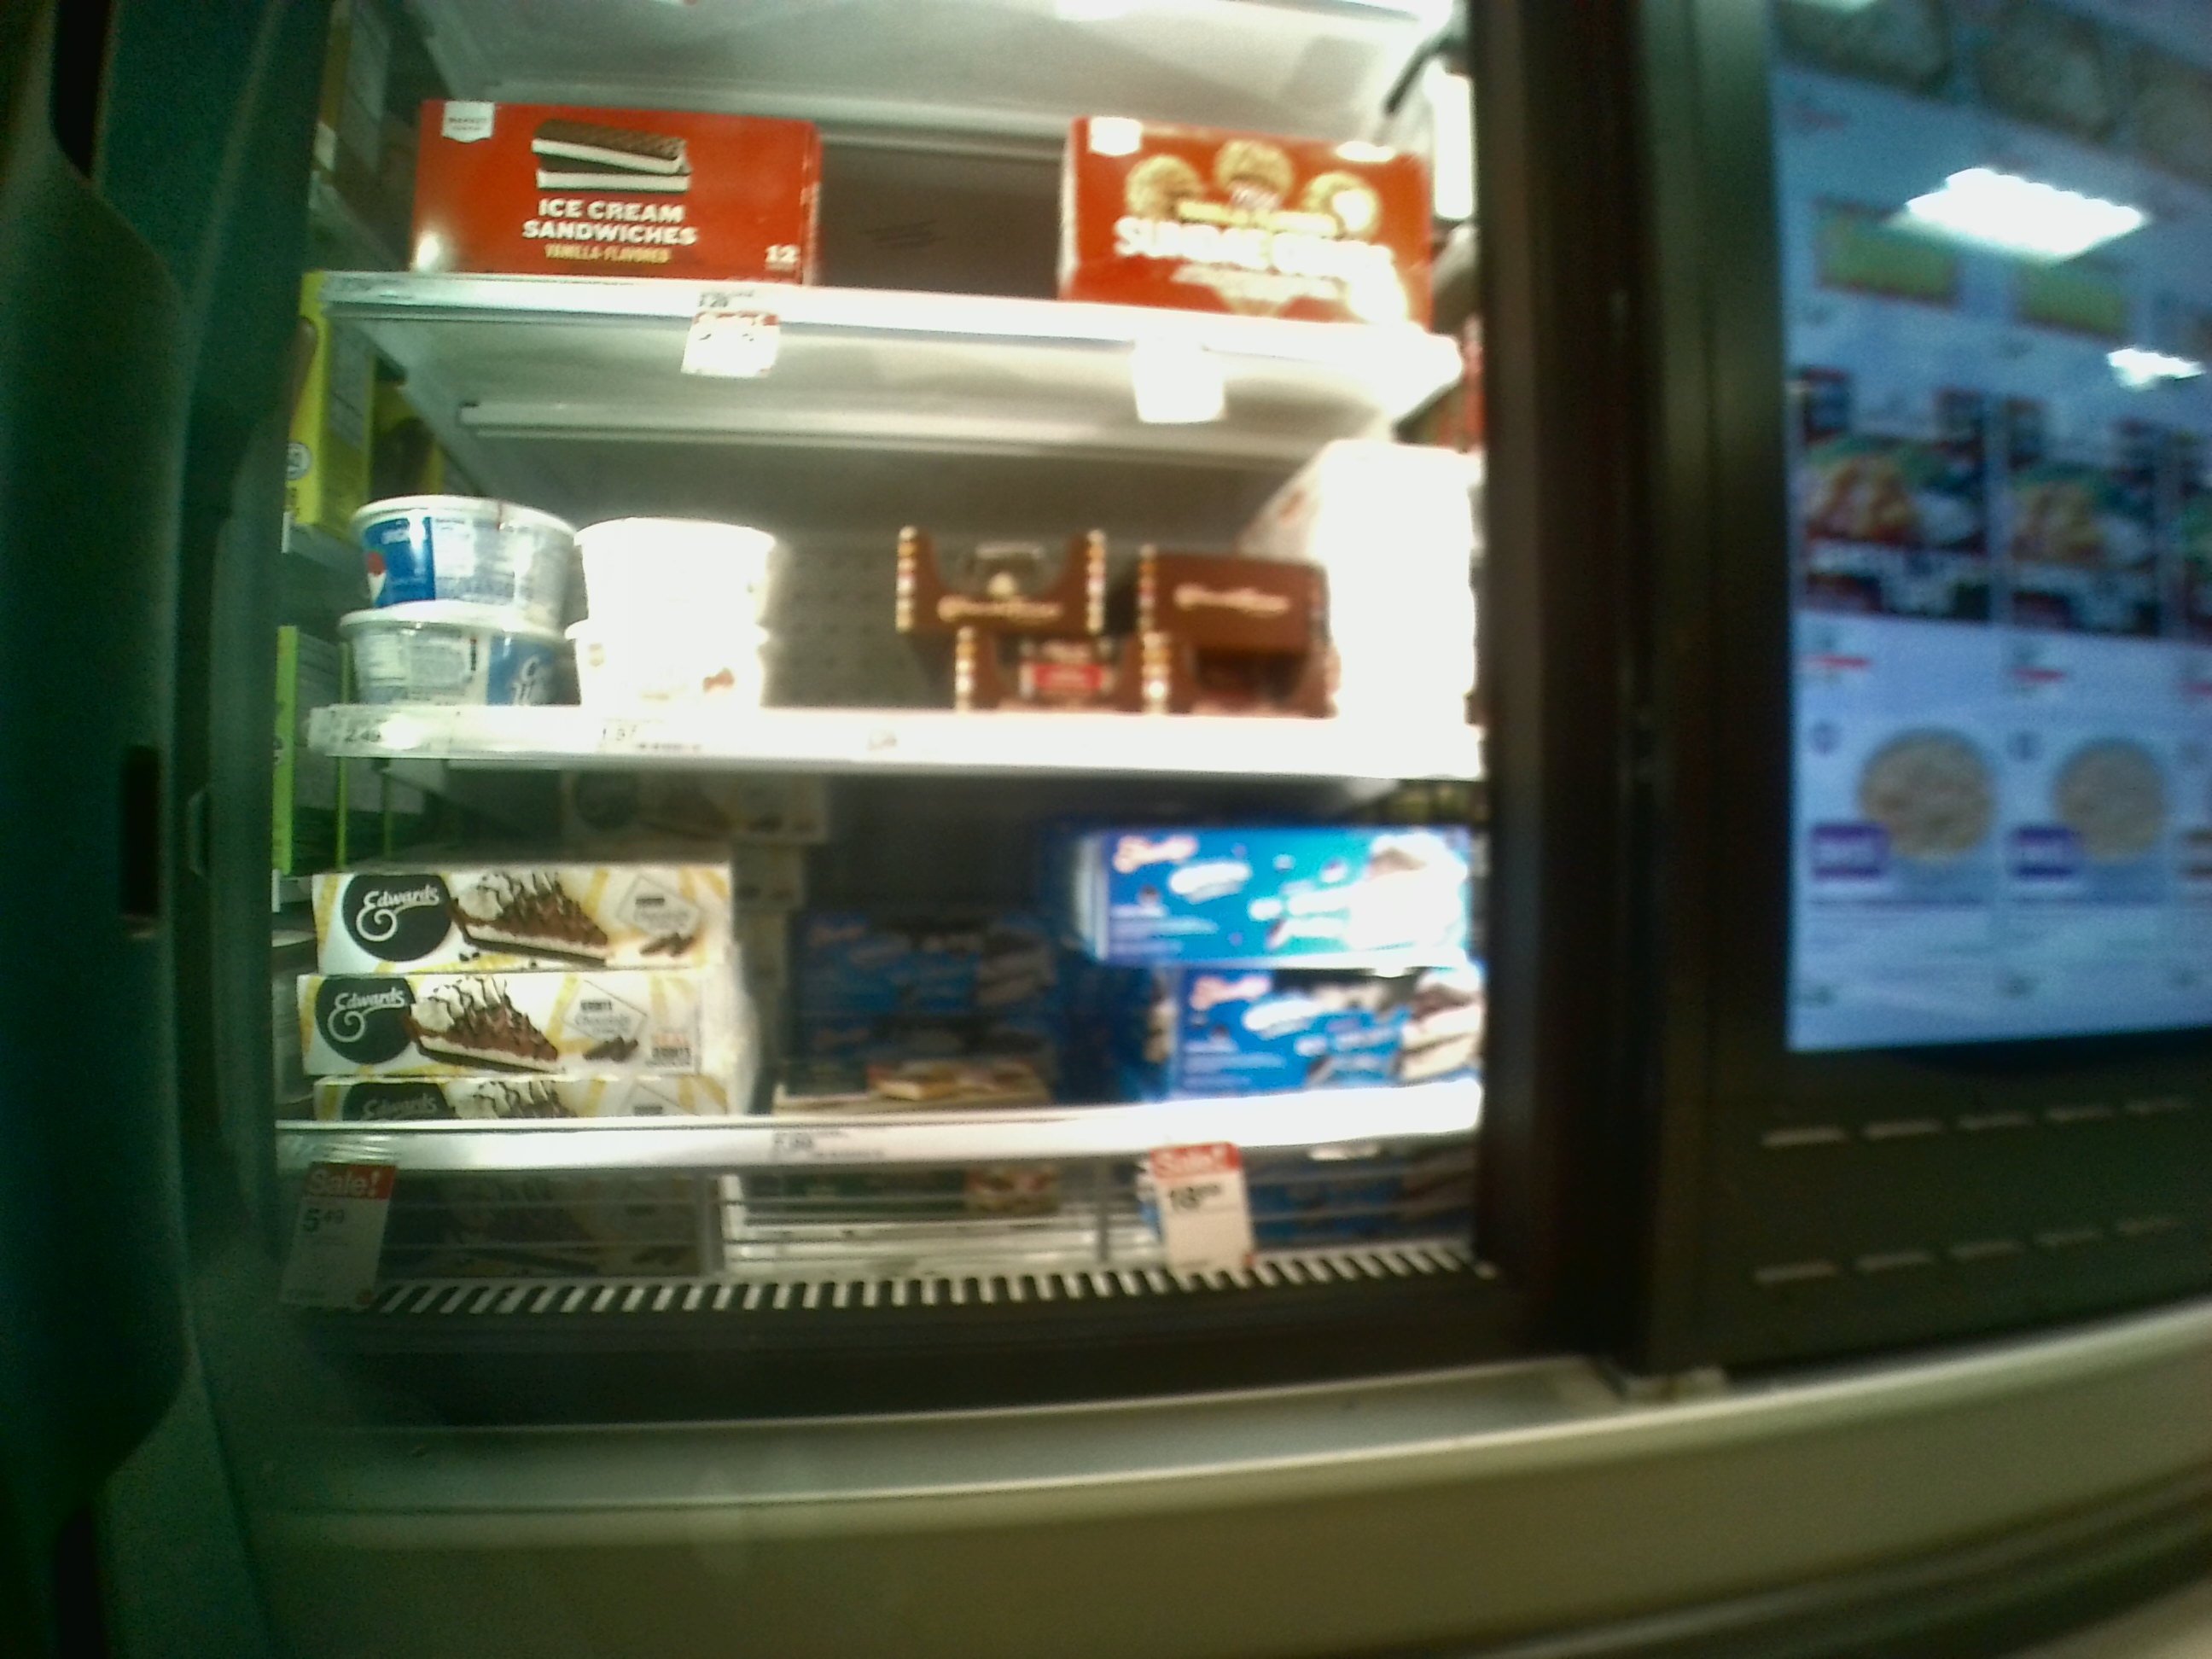shelf: (239, 753, 1498, 1270), (279, 312, 1498, 782)
